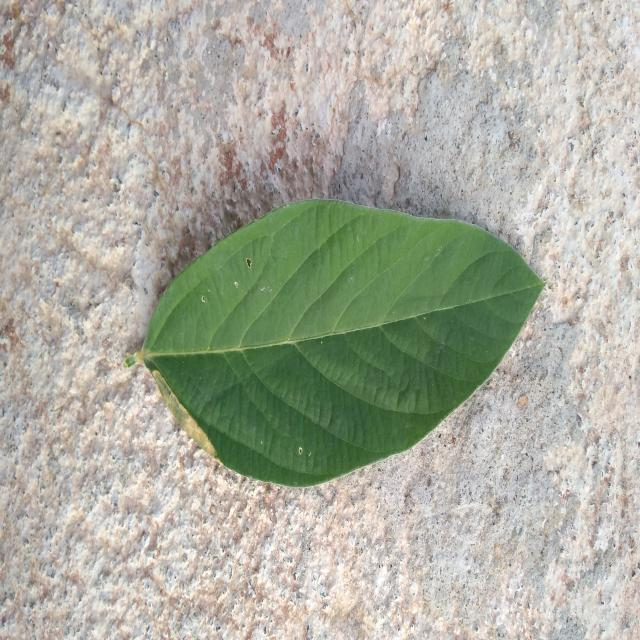pea: (126, 200, 544, 487)
